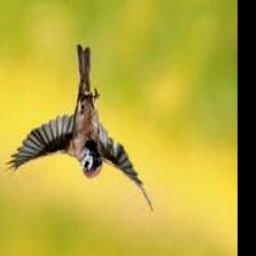Sparrow: (5, 44, 152, 213)
